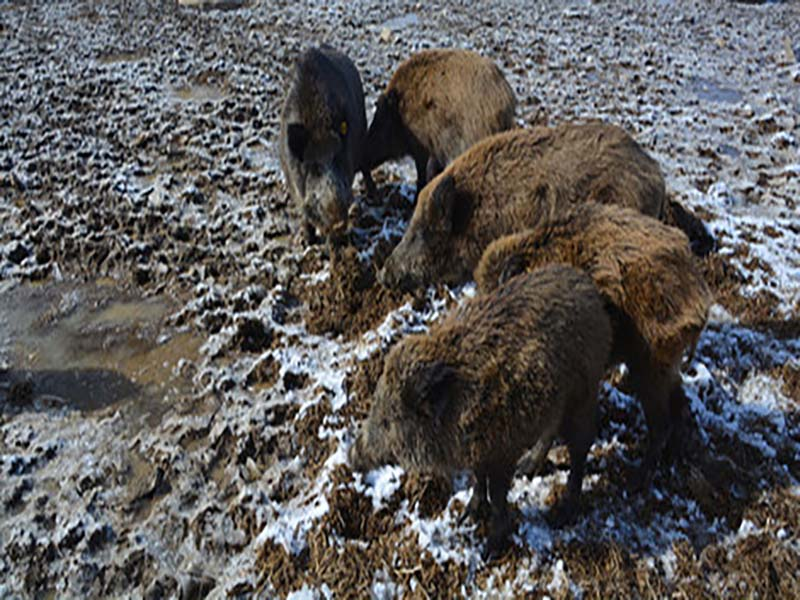cinghiale: (346, 259, 611, 523), (377, 121, 672, 300), (266, 39, 373, 233), (360, 45, 520, 143)
